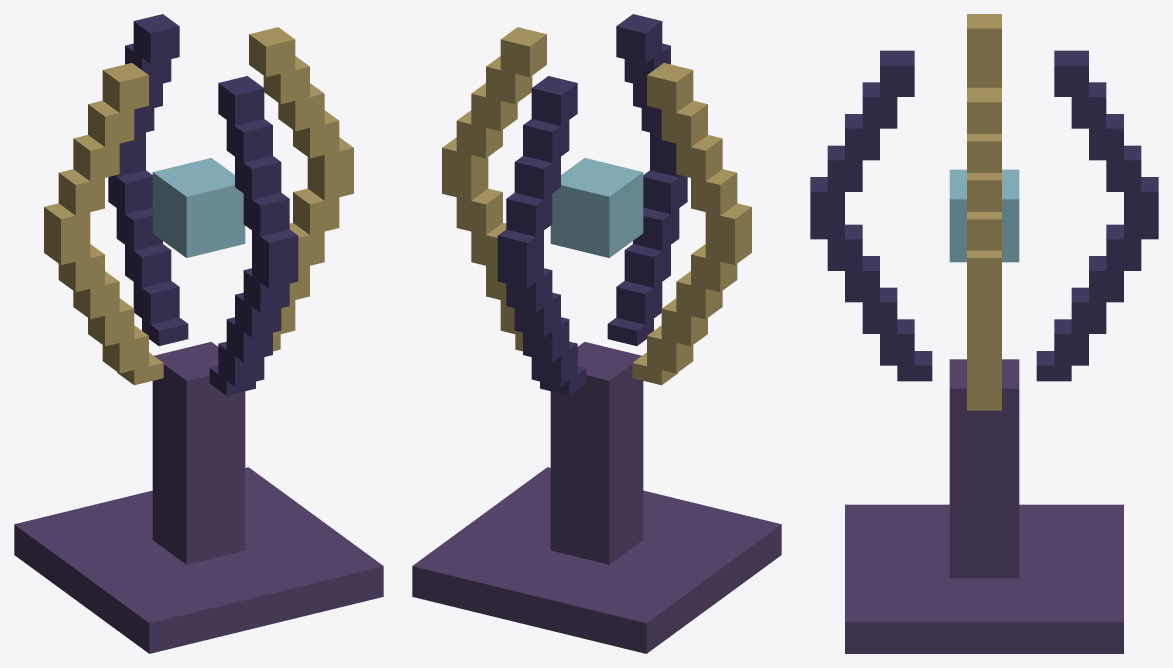
The model's file is landmark.glb.
3 views of the same model, side by side, from view 1: azimuth 30°, elevation 25°; view 2: azimuth 150°, elevation 25°; view 3: azimuth 270°, elevation 25° (orthographic). The views are drawn at different scales.
Parts seen in each view (by area): view 1: Shell; view 2: Shell; view 3: Shell.
Part boxes in pixels (left/top/right/bottom): Shell: left=14, top=14, right=383, bottom=653; Shell: left=412, top=14, right=781, bottom=653; Shell: left=810, top=14, right=1158, bottom=653.
Size of the model in its own units: 2.5 by 4.25 by 2.5.
